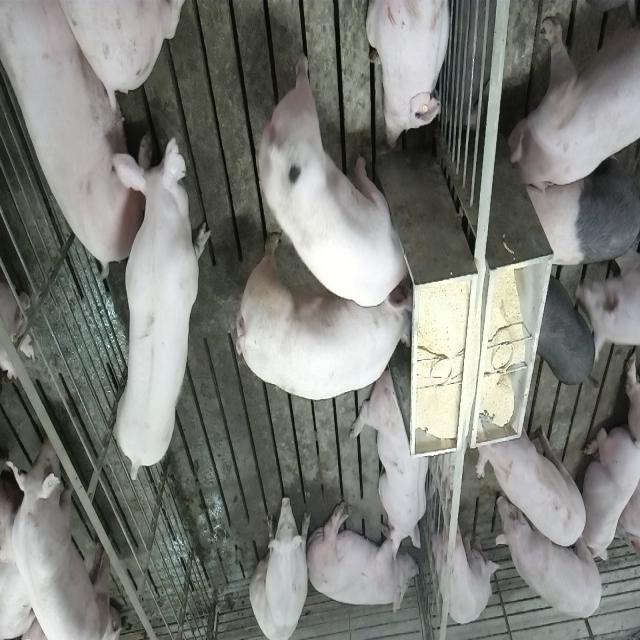Feeding: (262, 52, 419, 310), (242, 235, 420, 402)
Lateral_lying: (306, 499, 418, 617)
Sitting: (250, 493, 311, 640)
Standing: (111, 125, 212, 488), (506, 1, 638, 194), (1, 424, 115, 640), (519, 120, 637, 270), (476, 410, 588, 550), (494, 492, 604, 620), (436, 508, 502, 626), (534, 276, 596, 386)
Sternal_lying: (352, 365, 432, 559), (368, 0, 454, 148), (580, 424, 640, 572)
